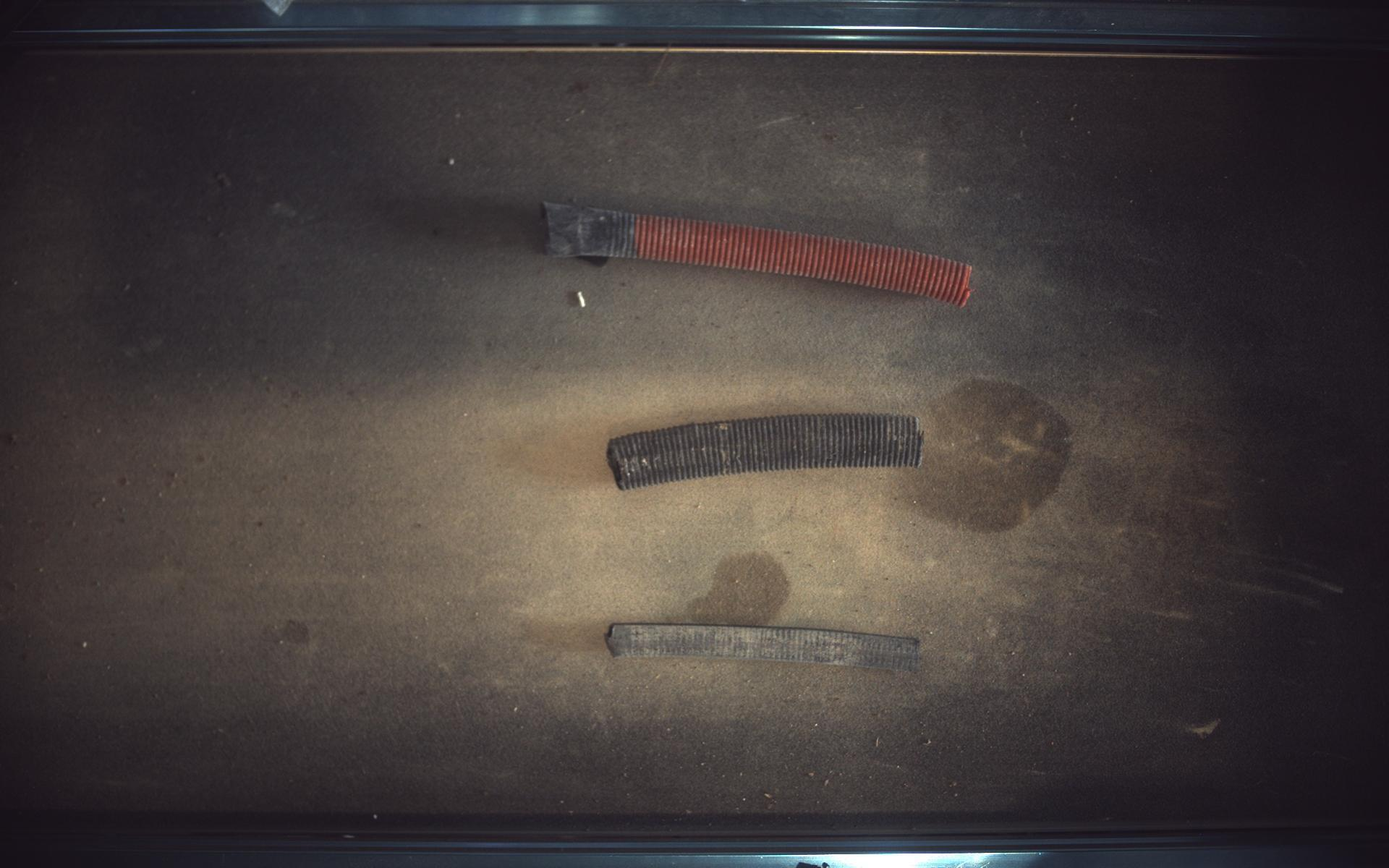pipes: (544, 203, 973, 306), (608, 414, 925, 490), (606, 624, 921, 673)
